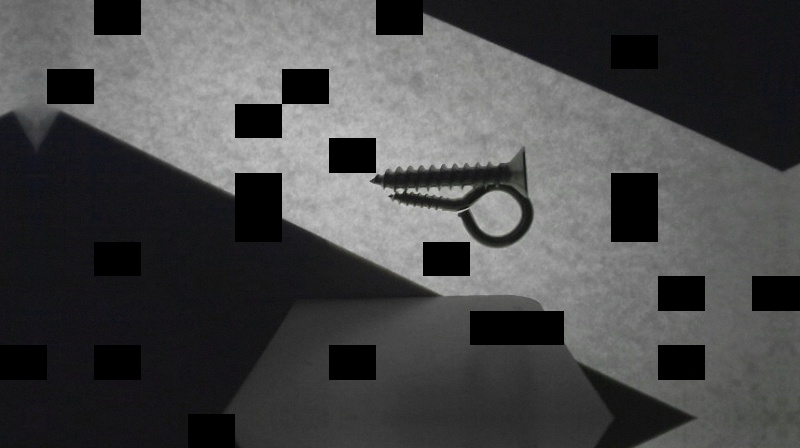O001: (387, 179, 532, 246)
S001: (368, 144, 530, 196)
